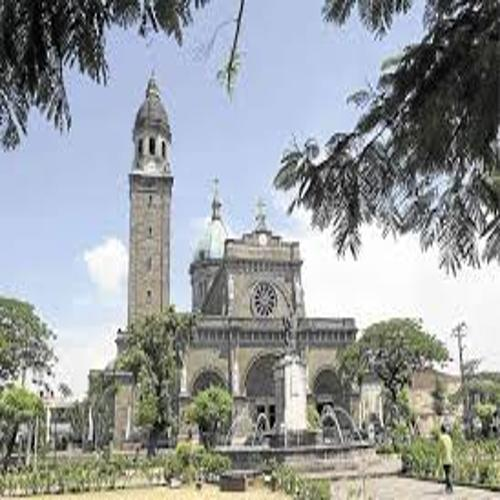Manila Cathedral Church: (78, 56, 381, 443)
